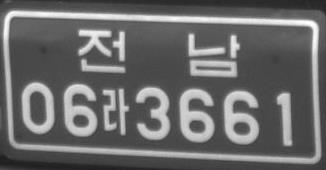0: (20, 80, 55, 134)
1: (269, 91, 301, 146)
3: (134, 86, 171, 140)
6: (178, 87, 216, 142), (222, 89, 260, 143), (62, 83, 97, 138)
라: (102, 87, 130, 135)
전남_D: (77, 27, 240, 77)
